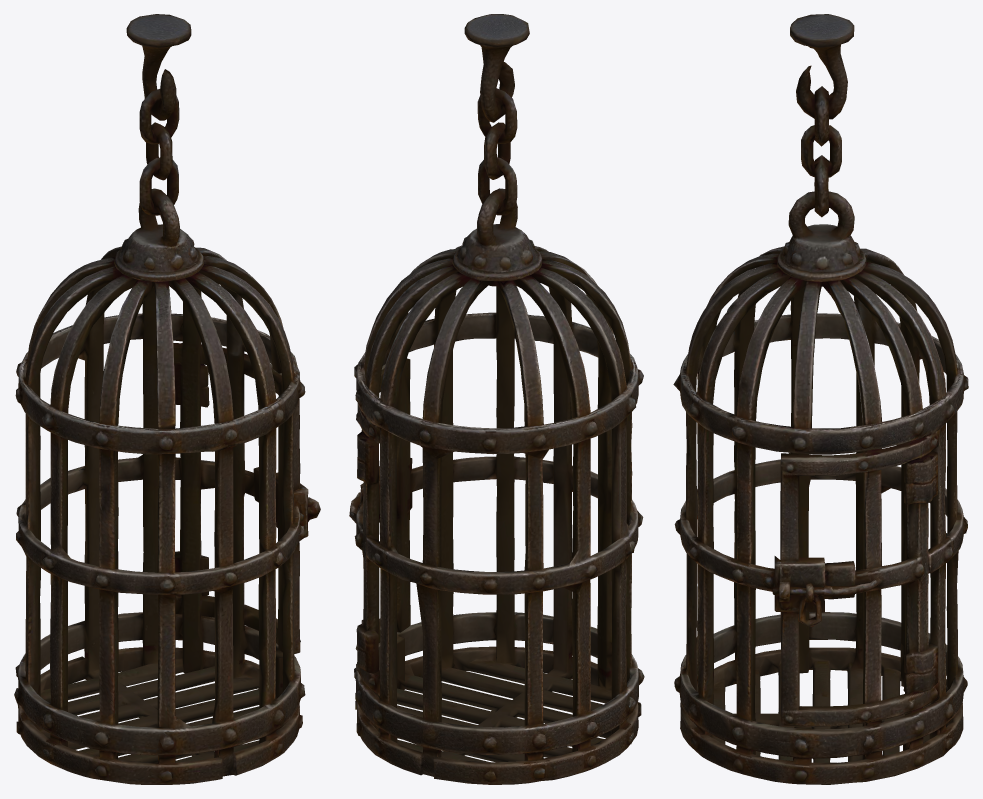
Rendered from hanging-iron-cage.glb.
The picture shows the model from 3 angles, left to right: view 1: azimuth 30°, elevation 25°; view 2: azimuth 150°, elevation 25°; view 3: azimuth 270°, elevation 25°; orthographic projection.
Visible parts, largest first — view 1: tripo_node_0f34e0b5-5540-4fe3-901e-6b142d53b4e7; view 2: tripo_node_0f34e0b5-5540-4fe3-901e-6b142d53b4e7; view 3: tripo_node_0f34e0b5-5540-4fe3-901e-6b142d53b4e7.
Part boxes in pixels (box(x1,y1,x2,y2)): tripo_node_0f34e0b5-5540-4fe3-901e-6b142d53b4e7: box(14, 14, 320, 784); tripo_node_0f34e0b5-5540-4fe3-901e-6b142d53b4e7: box(349, 14, 644, 784); tripo_node_0f34e0b5-5540-4fe3-901e-6b142d53b4e7: box(673, 14, 968, 784).
Bounding box in the file's own units: 0.4018 × 1 × 0.3822.
Materials: 1 (1 with a texture image).
